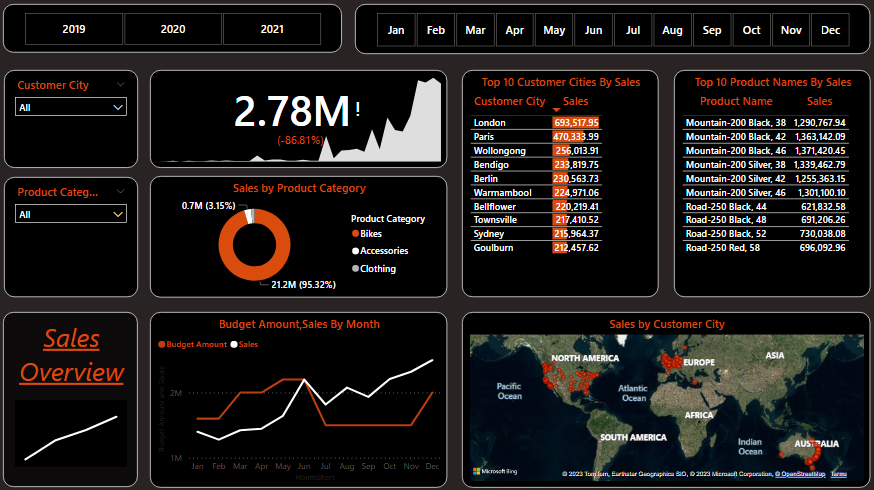

Layout of this report page (visuals, bound fields, positions):
{"tool":"powerbi","page":{"name":"Sales Overview","canvas":[1280,720],"ordinal":0},"visuals":[{"type":"kpi","fields":{"Goal":["Key Measures.Budget Amount"],"TrendLine":["FactInternetSale.SalesAmount"],"Indicator":["Key Measures.Sales"]},"box":[227.3,106.5,427.5,141.5],"z":0},{"type":"tableEx","title":"Top 10 Customer Cities By Sales","fields":{"Values":["DIM_Customer.Customer City","Key Measures.Sales"]},"box":[677.1,106.5,282.9,327.4],"z":1000},{"type":"tableEx","title":"Top 10 Product Names By Sales","fields":{"Values":["DIM_Products (2).Product Name","Key Measures.Sales"]},"box":[982.3,106.5,282.9,327.4],"z":2000},{"type":"lineChart","title":"Budget Amount,Sales By Month","fields":{"Y":["Key Measures.Budget Amount","Key Measures.Sales"],"Category":["Dim_Date_Excel.MonthShort"]},"box":[227.3,454.6,427.5,252.7],"z":3000},{"type":"slicer","fields":{"Values":["DIM_Products (2).Product Category"]},"box":[17.3,260.6,193,172.8],"z":4000},{"type":"slicer","fields":{"Values":["DIM_Customer.Customer City"]},"box":[17.3,106.6,193,141.1],"z":5000},{"type":"slicer","fields":{"Values":["Dim_Date_Excel.Year"]},"box":[15.9,11.1,487.9,69.9],"z":6000},{"type":"slicer","fields":{"Values":["Dim_Date_Excel.MonthShort"]},"box":[522.9,11.1,742.3,71.5],"z":7000},{"type":"map","fields":{"Category":["DIM_Customer.Customer City"],"Size":["Key Measures.Sales"]},"box":[677.1,454.6,588.1,252.7],"z":8000},{"type":"donutChart","fields":{"Category":["DIM_Products (2).Product Category"],"Y":["Key Measures.Sales"]},"box":[227.3,259.1,427.5,174.8],"z":9000},{"type":"textbox","box":[15.8,455,194.4,252],"z":10000},{"type":"lineChart","title":"AVG Sales","fields":{"Y":["Avg(FactInternetSale.SalesAmount)"],"Category":["Dim_Date_Excel.Quater"]},"box":[33.1,581.8,161.3,96.5],"z":11000}]}

Visuals, with their boxes in screenshot pixels (x1, y1, x2, y2), scaled from the page's 1280x720 canvas onto the 874x490 screenshot:
kpi - Key Measures.Budget Amount x FactInternetSale.SalesAmount: select_region(155, 72, 447, 169)
"Top 10 Customer Cities By Sales" tableEx: select_region(462, 72, 656, 295)
"Top 10 Product Names By Sales" tableEx: select_region(671, 72, 864, 295)
"Budget Amount,Sales By Month" lineChart: select_region(155, 309, 447, 481)
slicer - DIM_Products (2).Product Category: select_region(12, 177, 144, 295)
slicer - DIM_Customer.Customer City: select_region(12, 73, 144, 169)
slicer - Dim_Date_Excel.Year: select_region(11, 8, 344, 55)
slicer - Dim_Date_Excel.MonthShort: select_region(357, 8, 864, 56)
map - DIM_Customer.Customer City x Key Measures.Sales: select_region(462, 309, 864, 481)
donutChart - DIM_Products (2).Product Category x Key Measures.Sales: select_region(155, 176, 447, 295)
textbox: select_region(11, 310, 144, 481)
"AVG Sales" lineChart: select_region(23, 396, 133, 462)
